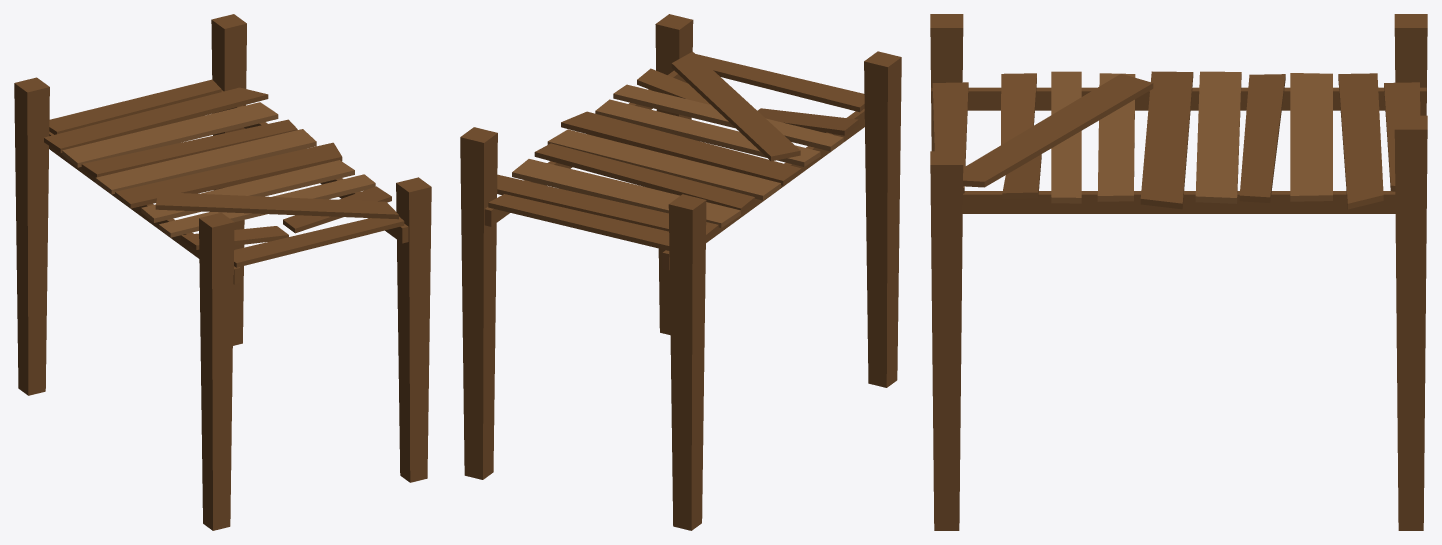
Rendered from Pier_03.fbx.
The picture shows the model from 3 angles, left to right: view 1: azimuth 30°, elevation 25°; view 2: azimuth 150°, elevation 25°; view 3: azimuth 270°, elevation 25°; orthographic projection. The views are drawn at different scales.
Visible parts, largest first — view 1: Pier_03; view 2: Pier_03; view 3: Pier_03.
Part boxes in pixels (x1,y1,x2,y2): Pier_03: (14, 14, 431, 530); Pier_03: (460, 14, 901, 530); Pier_03: (930, 14, 1427, 530).
Bounding box in the file's own units: 191 × 264 × 295.
